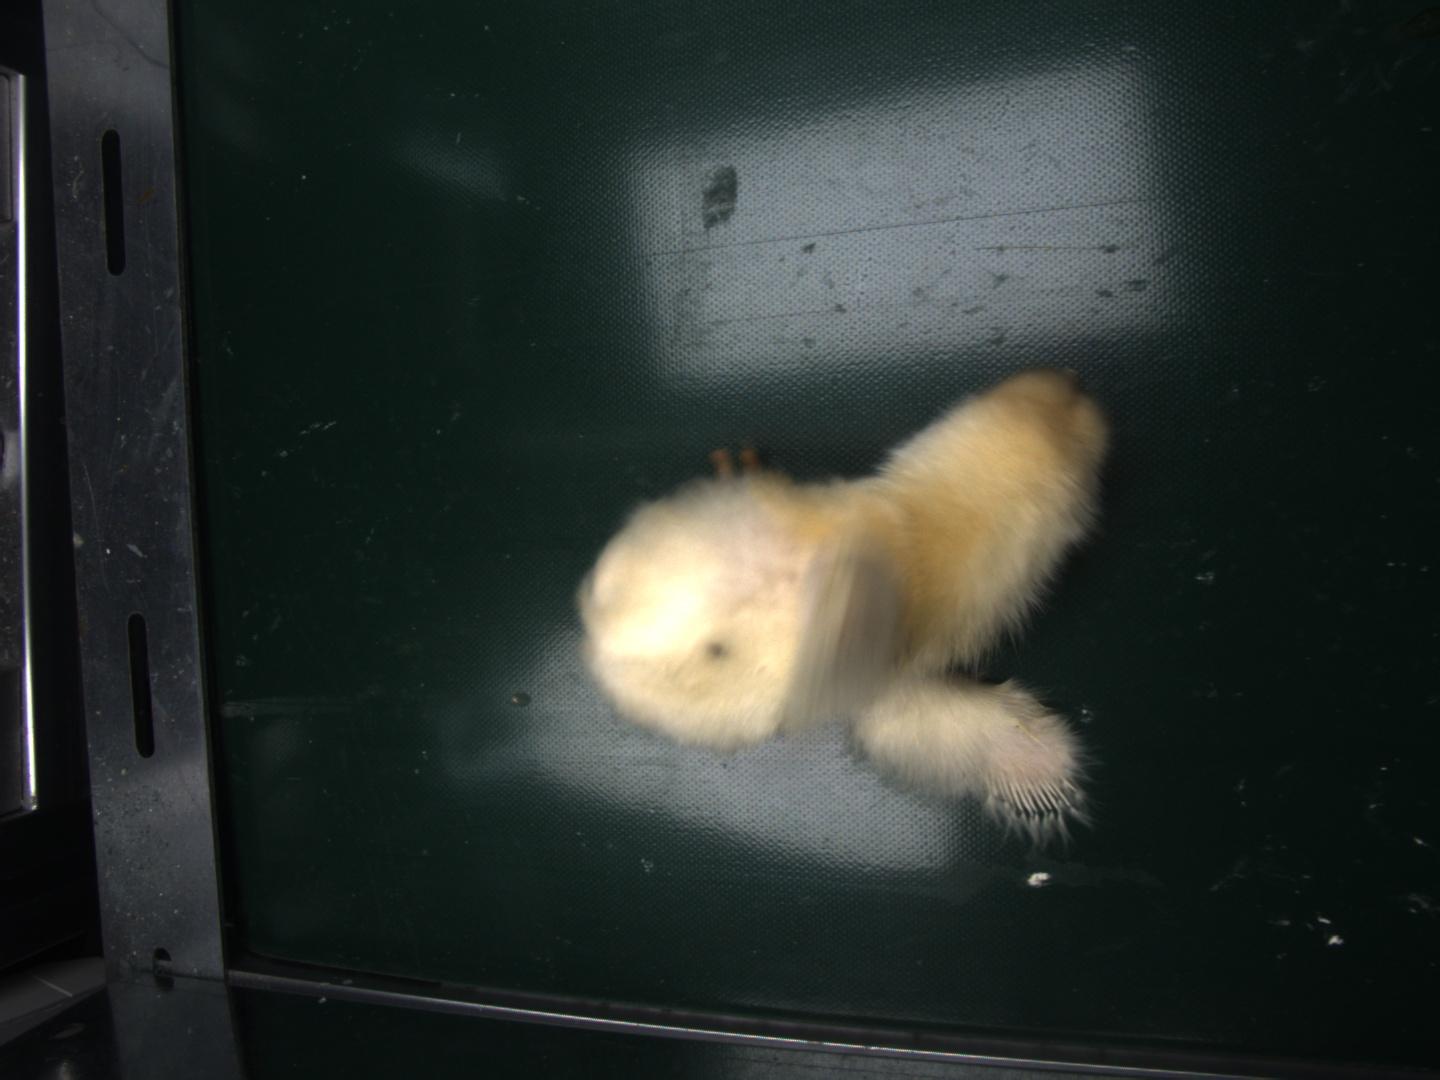male: (990, 773, 1073, 816)
